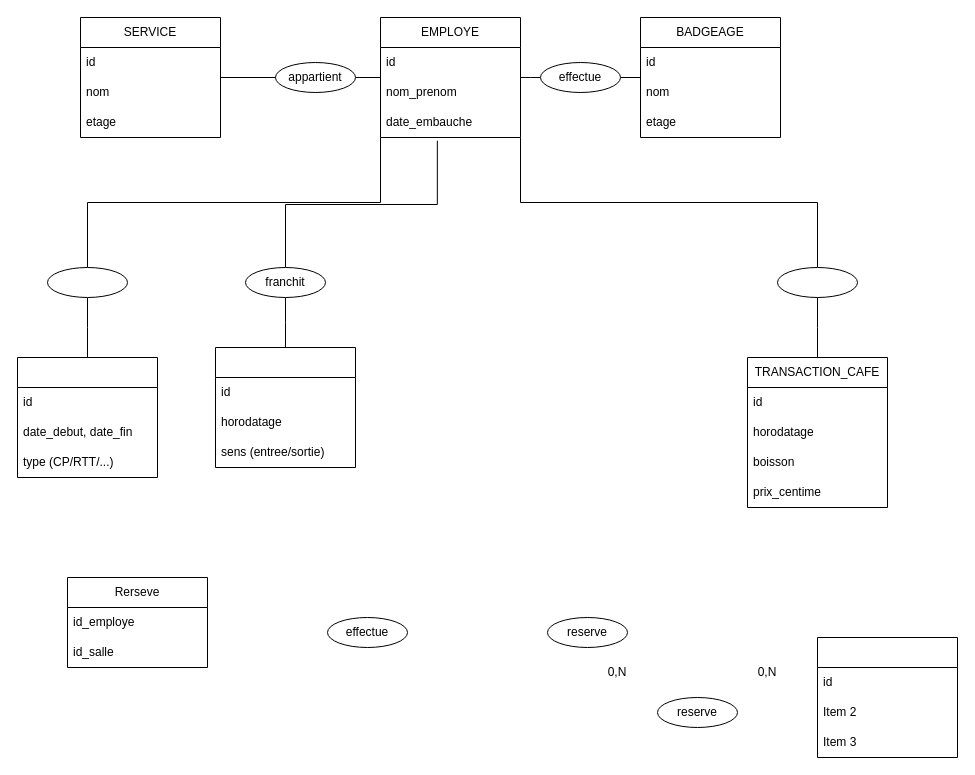
This 975x775 diagram has some shape labels left out. Here are the shapes that lost their labels. From the top down, the box of each, then its label:
(46, 266, 128, 298): pose
(776, 266, 858, 298): tire
(16, 356, 158, 478): CONGE
(214, 346, 356, 468): ACCES_PARKING
(816, 636, 958, 758): SALLE
